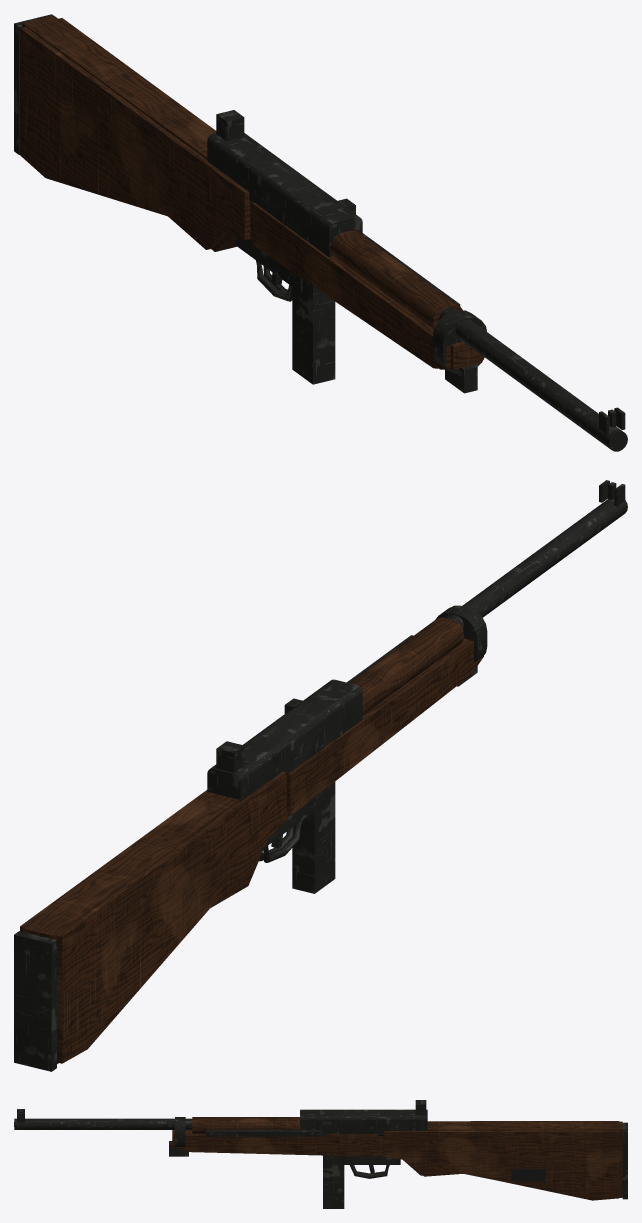
The model's file is carbine.glb.
3 renders of one model, top to bottom at view 1: azimuth 30°, elevation 25°; view 2: azimuth 150°, elevation 25°; view 3: azimuth 270°, elevation 25°, orthographic. The views are drawn at different scales.
Parts seen in each view (by area): view 1: M1_Carbine; view 2: M1_Carbine; view 3: M1_Carbine.
Part boxes in pixels (x1,y1,x2,y2): M1_Carbine: (14, 14, 627, 451); M1_Carbine: (14, 480, 627, 1071); M1_Carbine: (14, 1100, 627, 1208).
Size of the model in its own units: 0.048 by 0.17 by 0.9135.
3 materials, 2 textured.
